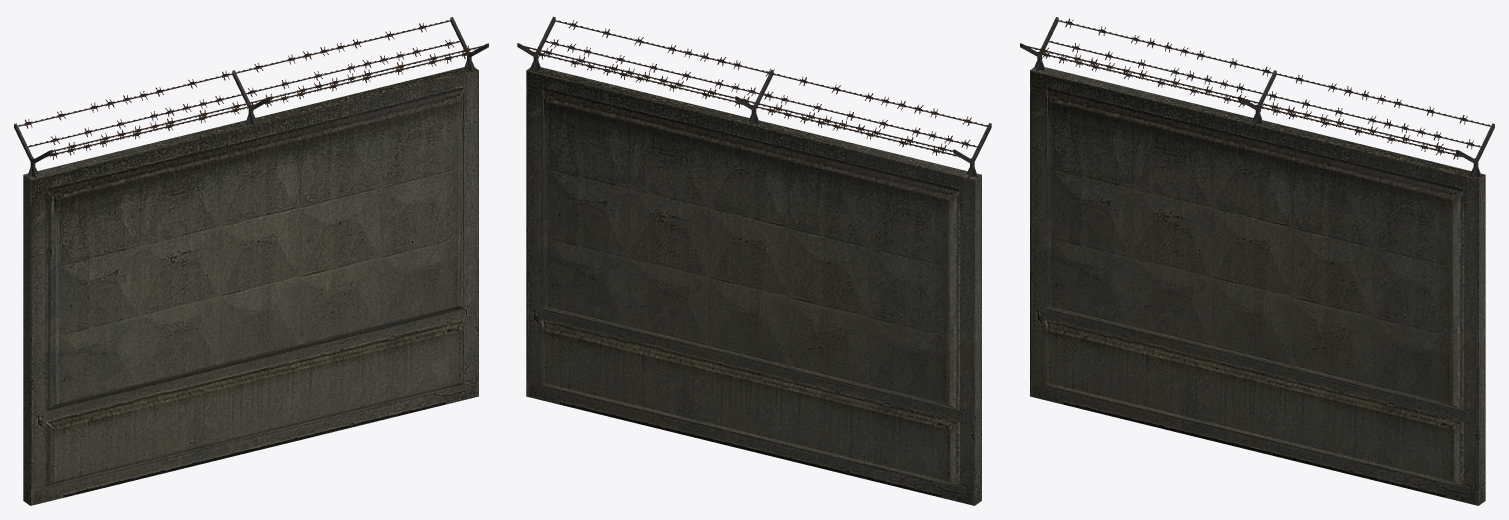
Rendered from concrete_fence_hr_2.fbx.
3 renders of one model, left to right at view 1: azimuth 30°, elevation 25°; view 2: azimuth 150°, elevation 25°; view 3: azimuth 330°, elevation 25°, orthographic.
Visible parts, largest first — view 1: concrete_fence_hr_2; view 2: concrete_fence_hr_2; view 3: concrete_fence_hr_2.
Boxes of the visible parts, box(x1,y1,x2,y2) form: concrete_fence_hr_2: box(14, 17, 488, 505); concrete_fence_hr_2: box(517, 16, 991, 505); concrete_fence_hr_2: box(1020, 17, 1494, 505).
Size of the model in its own units: 3.6 by 0.5551 by 2.82.
